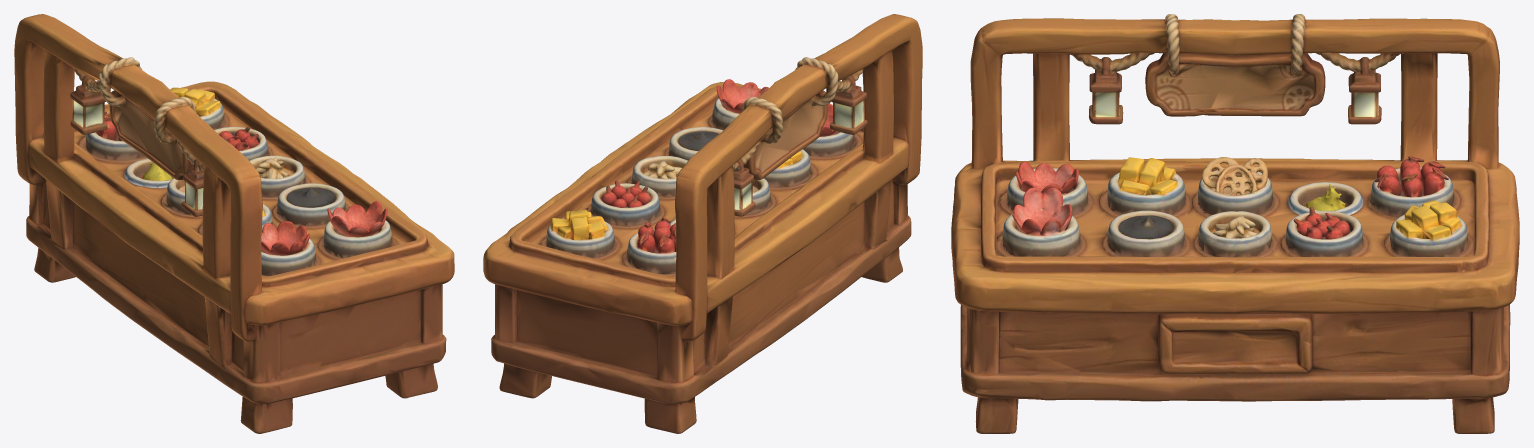
File: KR_사물_s1_station_topping_t3_old.glb
3 renders of one model, left to right at view 1: azimuth 30°, elevation 25°; view 2: azimuth 150°, elevation 25°; view 3: azimuth 270°, elevation 25°, orthographic. The views are drawn at different scales.
Parts seen in each view (by area): view 1: tripo_node_c995359b-689d-4461-ac4a-63fb7ead19fb; view 2: tripo_node_c995359b-689d-4461-ac4a-63fb7ead19fb; view 3: tripo_node_c995359b-689d-4461-ac4a-63fb7ead19fb.
Part boxes in pixels (x1,y1,x2,y2): tripo_node_c995359b-689d-4461-ac4a-63fb7ead19fb: (14, 14, 454, 433); tripo_node_c995359b-689d-4461-ac4a-63fb7ead19fb: (483, 14, 922, 433); tripo_node_c995359b-689d-4461-ac4a-63fb7ead19fb: (951, 14, 1519, 433).
Bounding box in the file's own units: 0.5258 × 0.6131 × 0.9997.
Materials: 1 (1 with a texture image).
